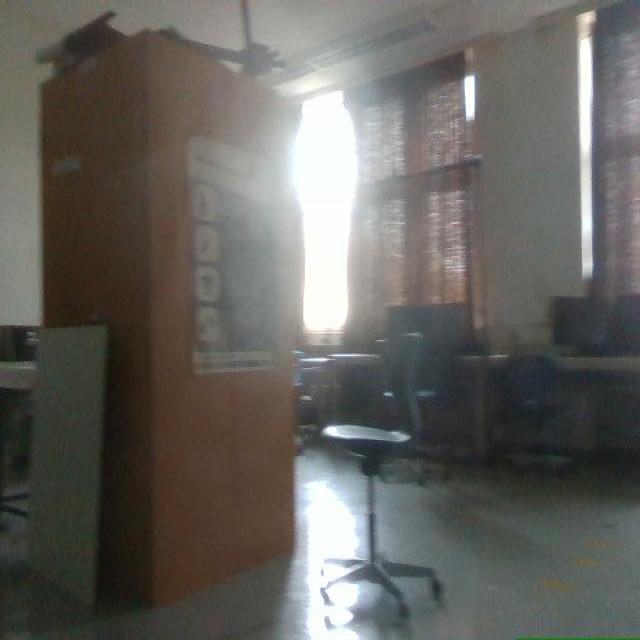objects: (41, 31, 300, 603), (321, 424, 442, 616), (396, 332, 422, 423)
